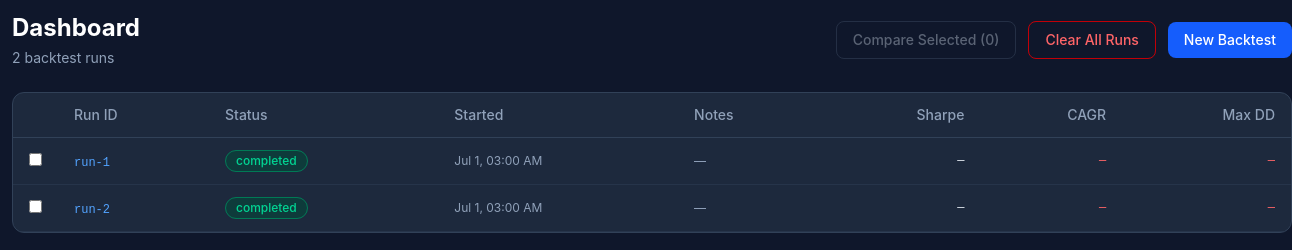
Test: Dashboard › enables Compare Selected only once 2+ runs are checked
This screenshot has width=1292, height=250.
Check: the text "2 backtest runs" is shown, box left=12, top=49, right=114, bottom=66
Check: the button "Compare Selected (0)" is disabled, box left=836, top=21, right=1016, bottom=59
Click the checkbox named "Select run run-1": x=36, y=160 left=29, top=153, right=42, bottom=166
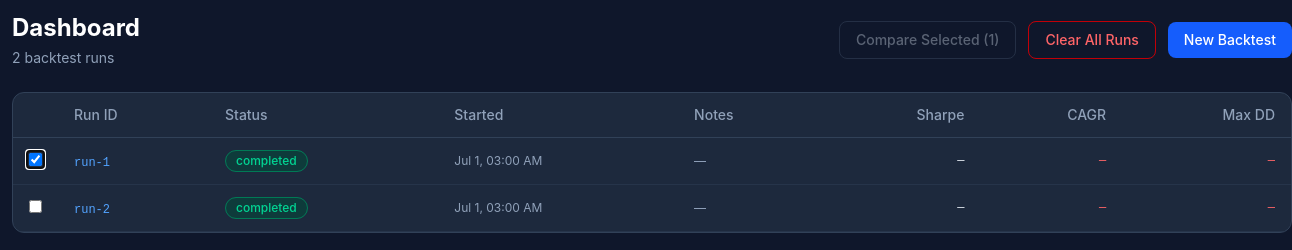
Click the checkbox named "Select run run-2": x=36, y=206 left=29, top=200, right=42, bottom=213
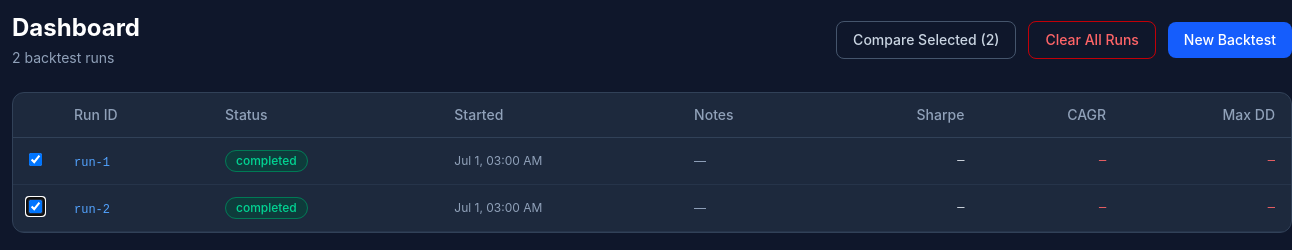
Check: the button "Compare Selected (2)" is enabled, box left=836, top=21, right=1016, bottom=59
